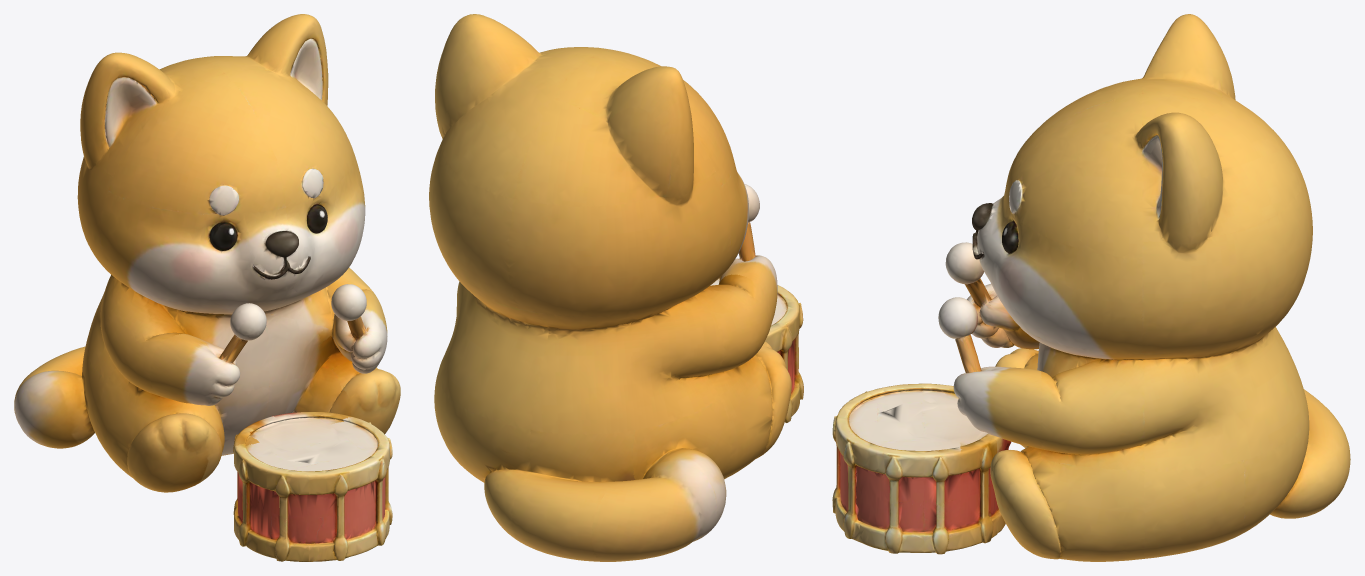
Rendered from model-mobile-v001.glb.
3 renders of one model, left to right at view 1: azimuth 30°, elevation 25°; view 2: azimuth 150°, elevation 25°; view 3: azimuth 270°, elevation 25°, orthographic. The views are drawn at different scales.
Visible parts, largest first — view 1: tmp5kv5hk0zobj; view 2: tmp5kv5hk0zobj; view 3: tmp5kv5hk0zobj.
Part boxes in pixels (x1=…): tmp5kv5hk0zobj: x1=14, y1=14, x2=400, y2=561; tmp5kv5hk0zobj: x1=429, y1=14, x2=803, y2=561; tmp5kv5hk0zobj: x1=832, y1=14, x2=1350, y2=561.
Bounding box in the file's own units: 0.7177 × 0.9767 × 0.9999.
1 material, 1 textured.
